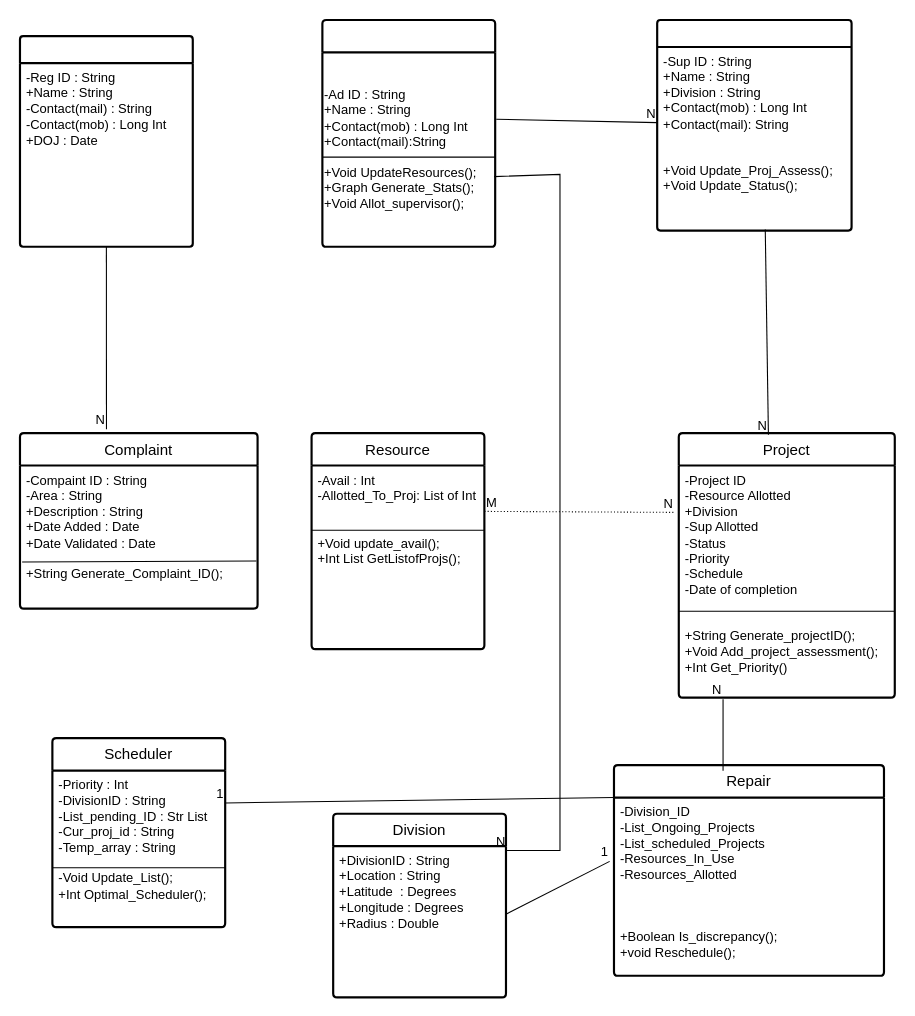
Image size: 915x1016. Some labels were removed from this diagram. The box of each missing label's shape, as (x1, y1, x2, y2) in pixels:
Admin: (321, 18, 496, 247)
Citizens: (18, 35, 193, 247)
Supervisor: (656, 18, 852, 231)
